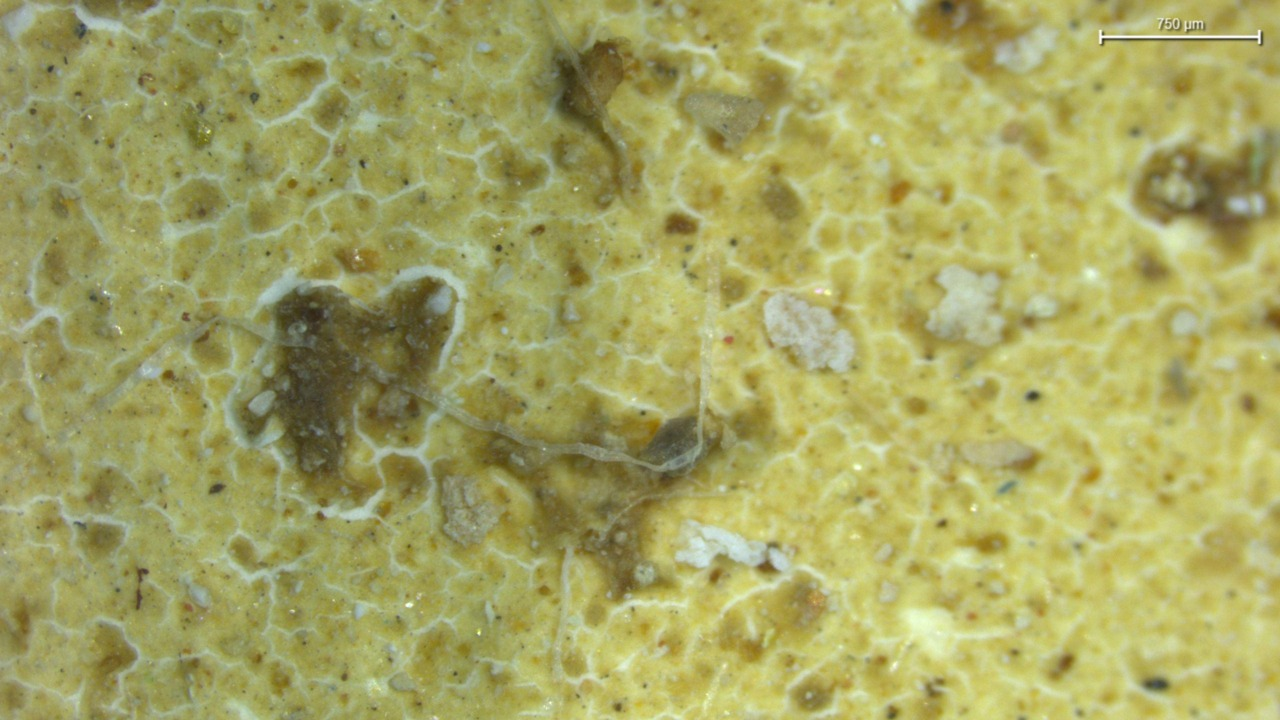microplastic_fragment: (764, 293, 854, 371), (926, 264, 1005, 346), (674, 520, 766, 567)
